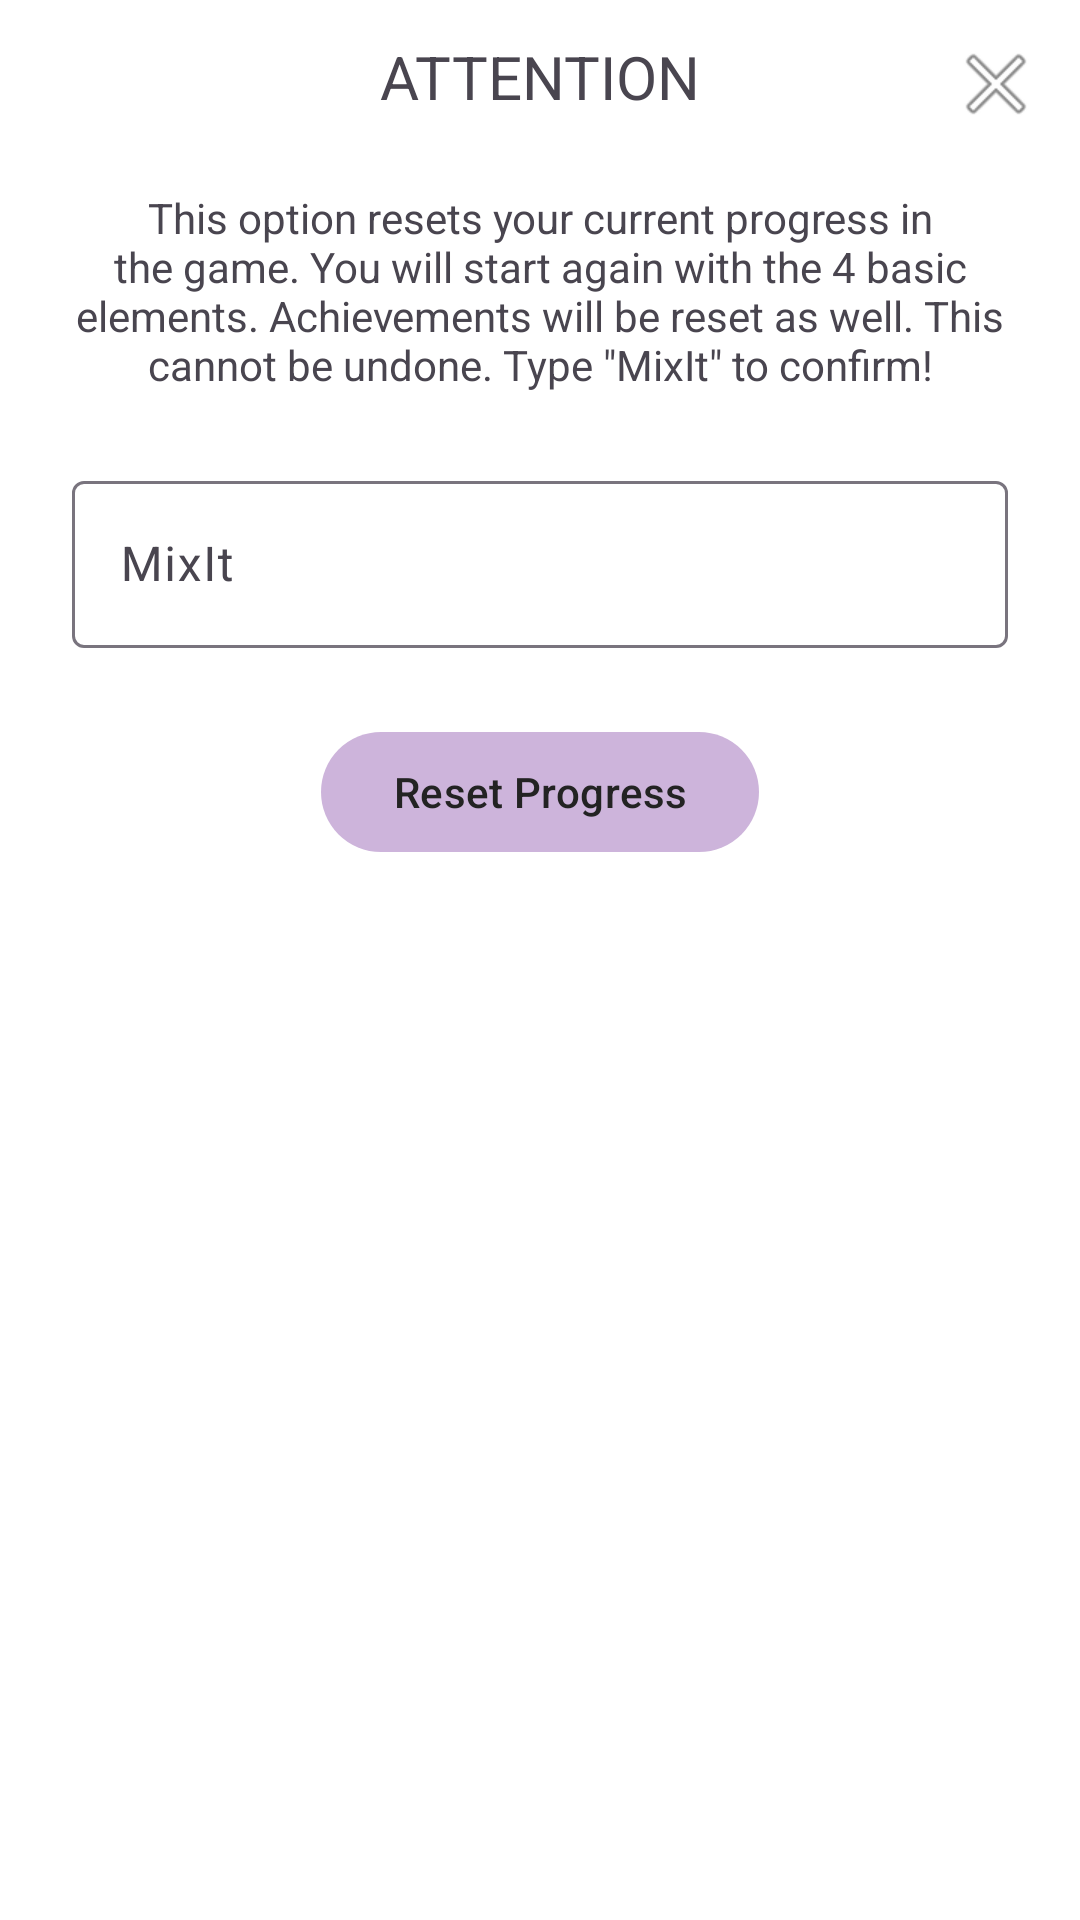

Point at icon controls on the screen. Image size 1080w x 1920h, points as [x,y].
Close Reset Progress Dialog: [996,84]
